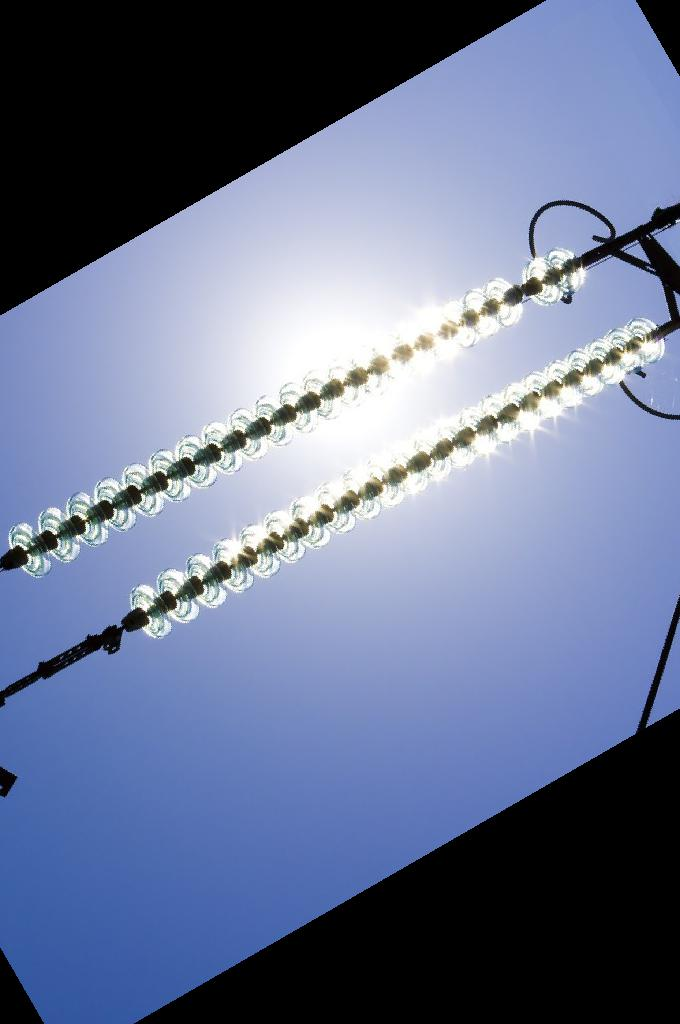insulator: (4, 241, 588, 582), (123, 311, 669, 644)
insulator_stringdrop: (482, 253, 564, 332)
